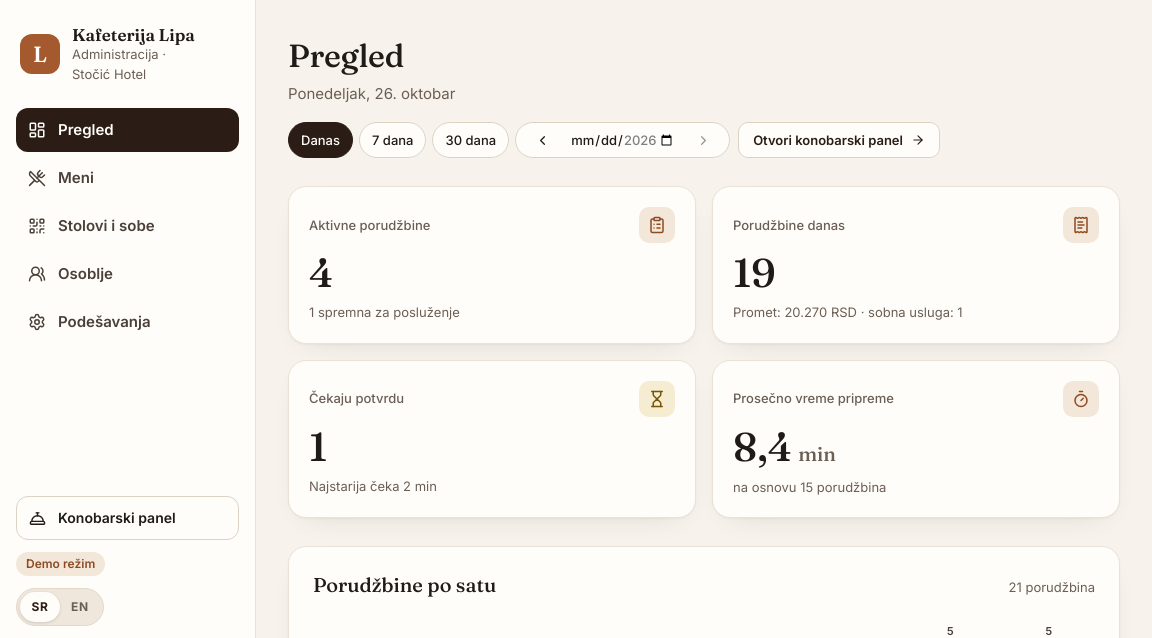
Test: staff › the overview shows today, and the last 30 days on request
Check: the heading "Porudžbine po satu" is shown, box [313,571,496,599]
Click the button "30 dana": (471, 140) [432,122,509,158]
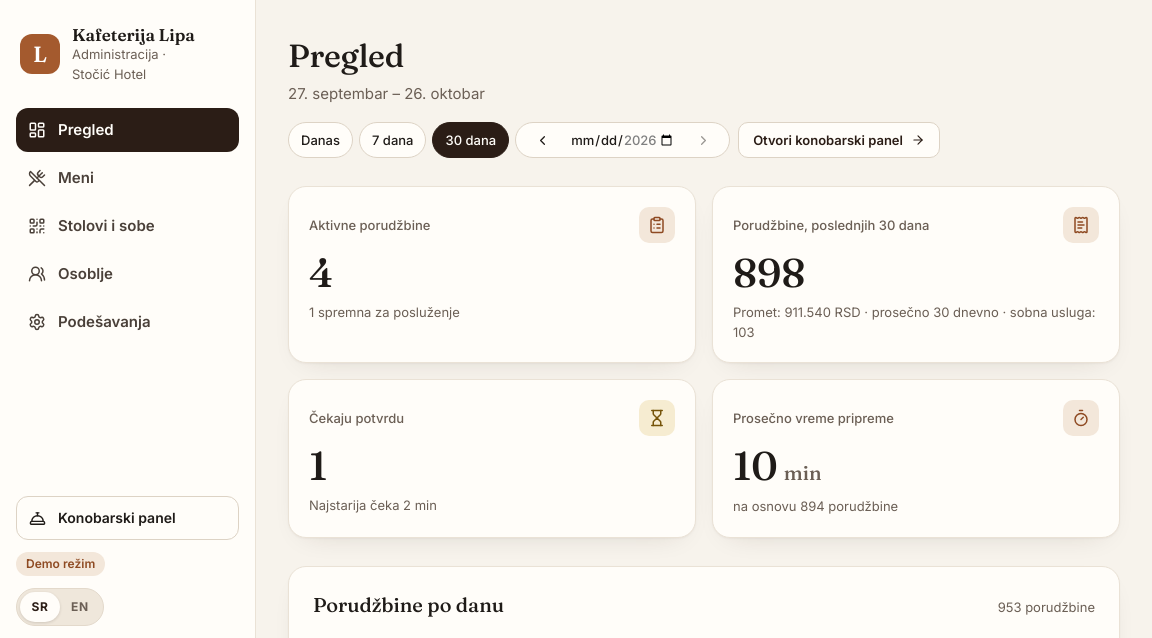
Check: the heading "Porudžbine po danu" is shown, box [313,591,504,619]
Check: the text "Porudžbine, poslednjih 30 dana" is shown, box [733,216,929,235]
